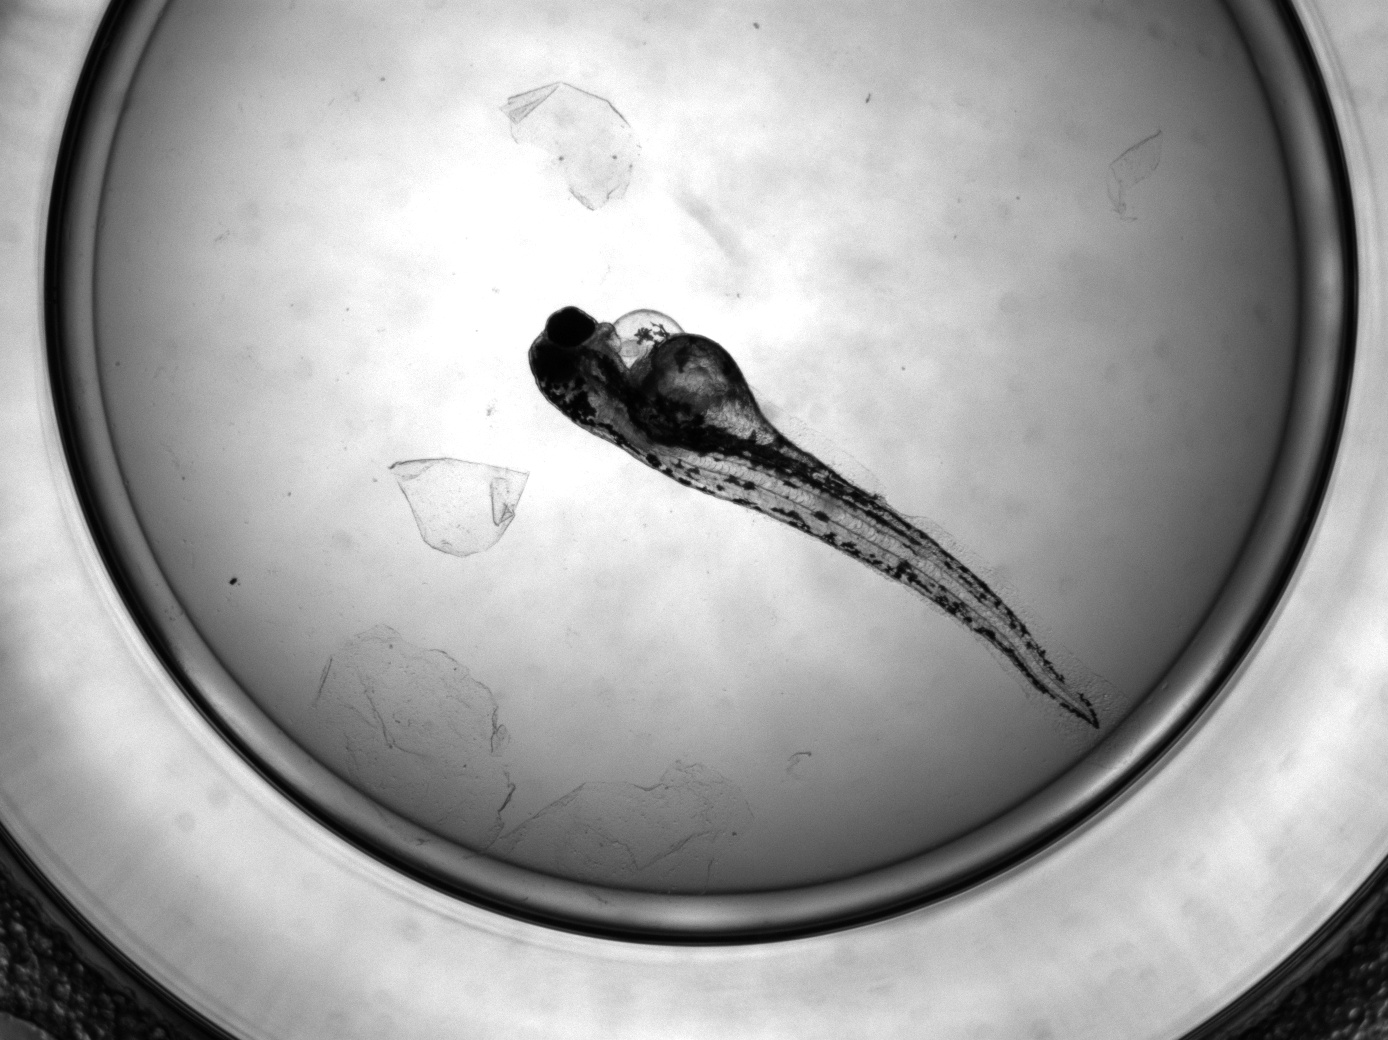debris: (312, 627, 519, 863), (508, 763, 758, 894), (505, 81, 634, 210), (387, 458, 529, 556)
embryo: (529, 305, 1105, 734)
eye: (545, 306, 595, 348), (533, 344, 580, 383)
yolksac: (610, 308, 804, 457)
